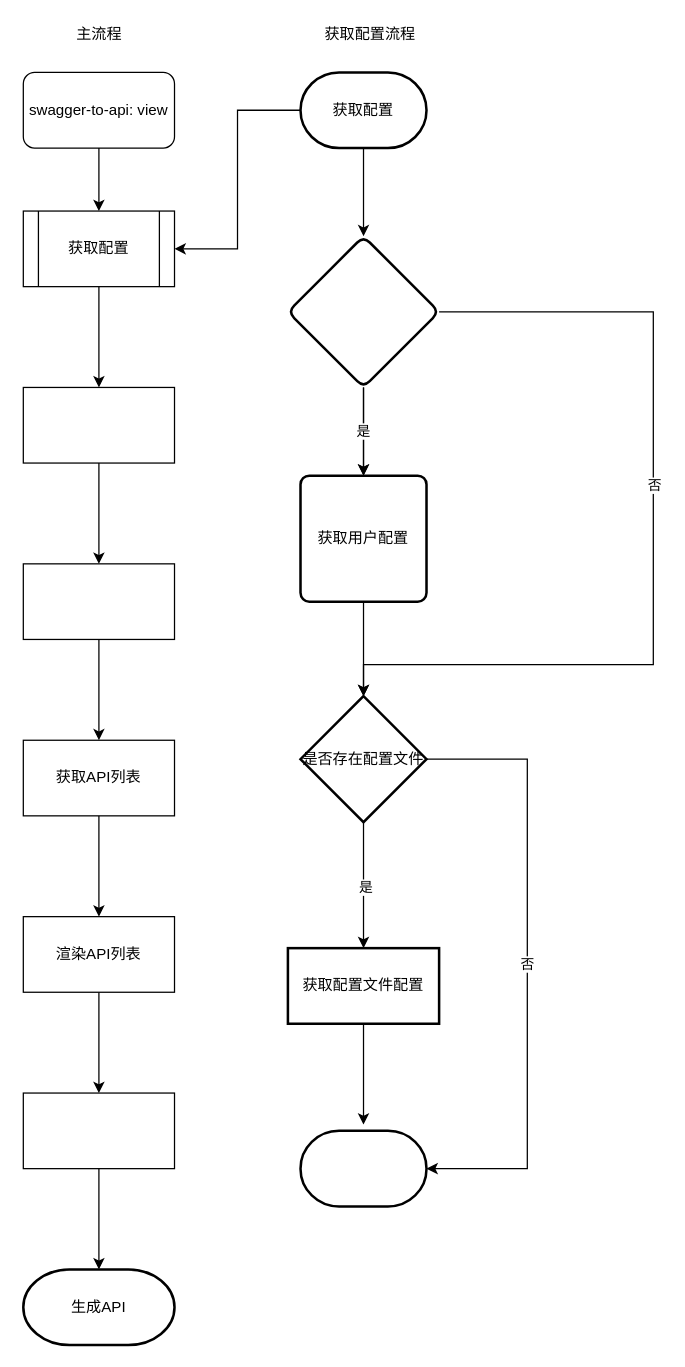
This 685x1367 diagram has some shape labels left out. Here are the shapes that lost their labels. From the top down, the centre of each, then its label:
At (363,311): "是否存在用户配置".
At (98,424): "渲染页面".
At (98,601): "用户选择服务".
At (98,1130): "用户选择API".
At (363,1168): "生成最终配置(带标记)".
